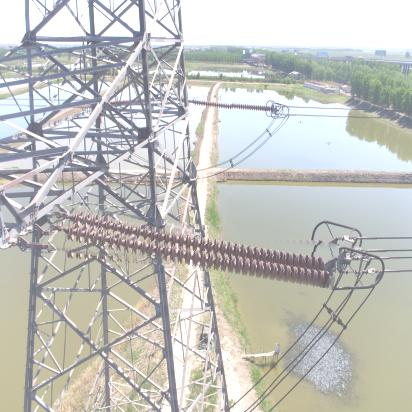insulator: (50, 216, 340, 281), (189, 99, 275, 115)
